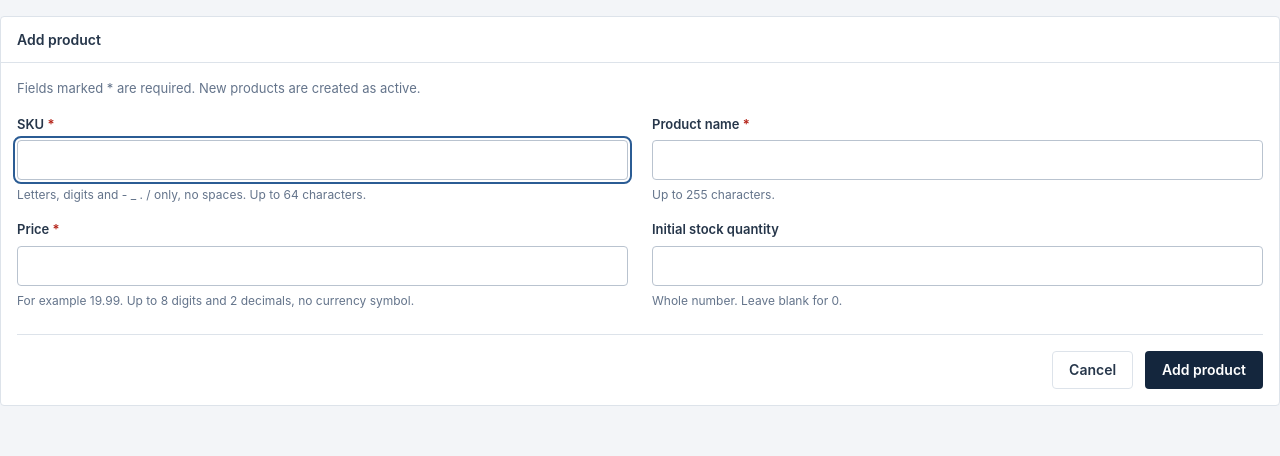
Test: validation before sending › sku with a space is caught without sending
Type "AB 12" into the field labelled "SKU *". click: (322, 160)
box: left=17, top=140, right=628, bottom=180
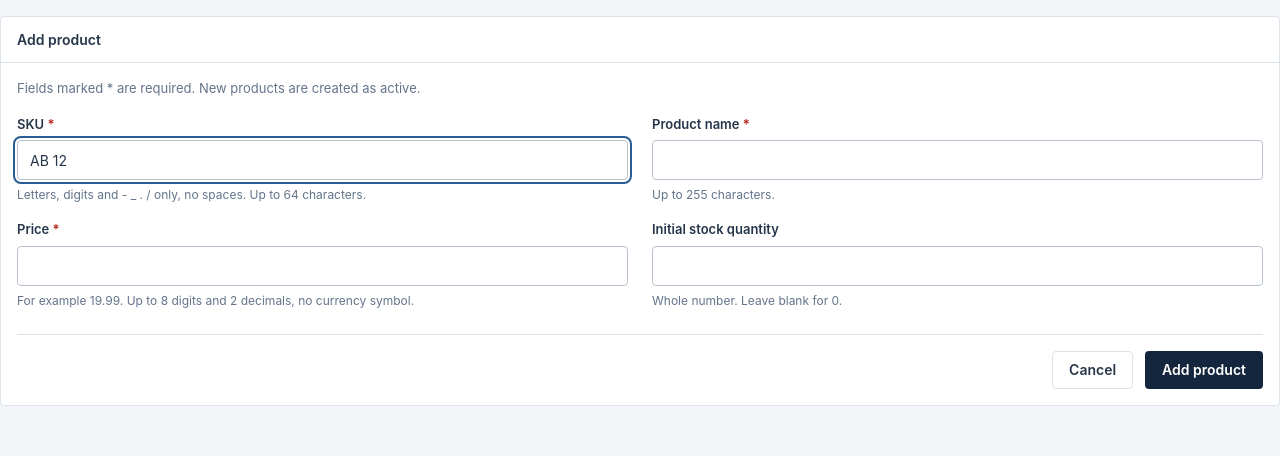
Type "USB Hub" into the field labelled "Product name *". click: (958, 160)
box: left=652, top=140, right=1263, bottom=180
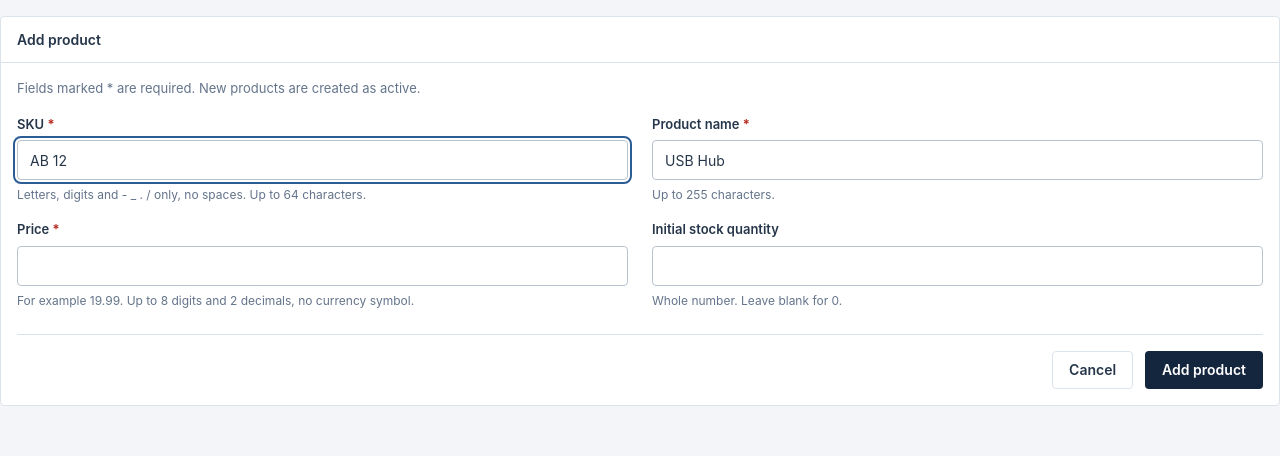
Type "24.50" into the field labelled "Price *". click: (322, 266)
box: left=17, top=246, right=628, bottom=286
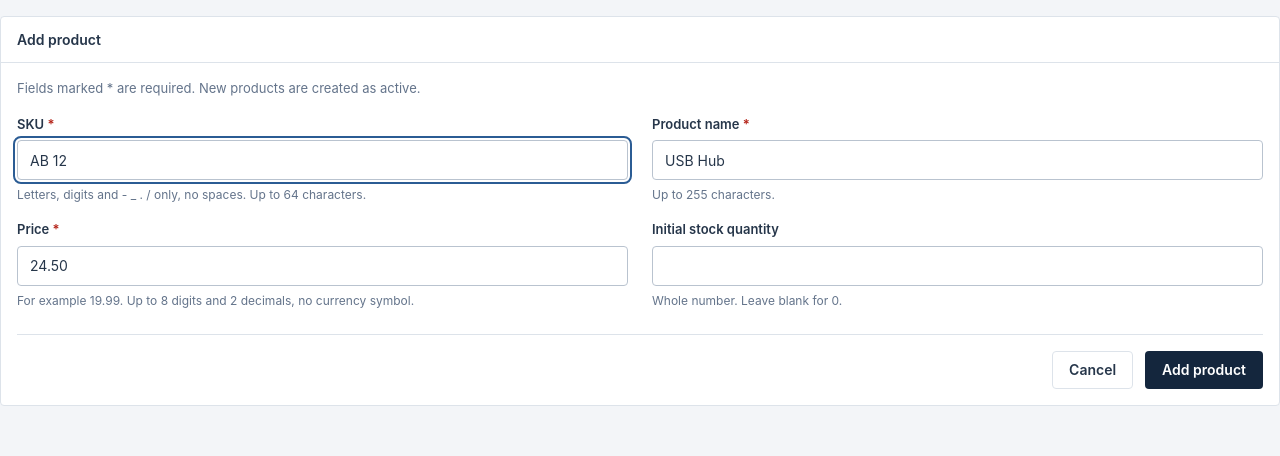
Type "15" into the field labelled "Initial stock quantity". click: (958, 266)
box: left=652, top=246, right=1263, bottom=286
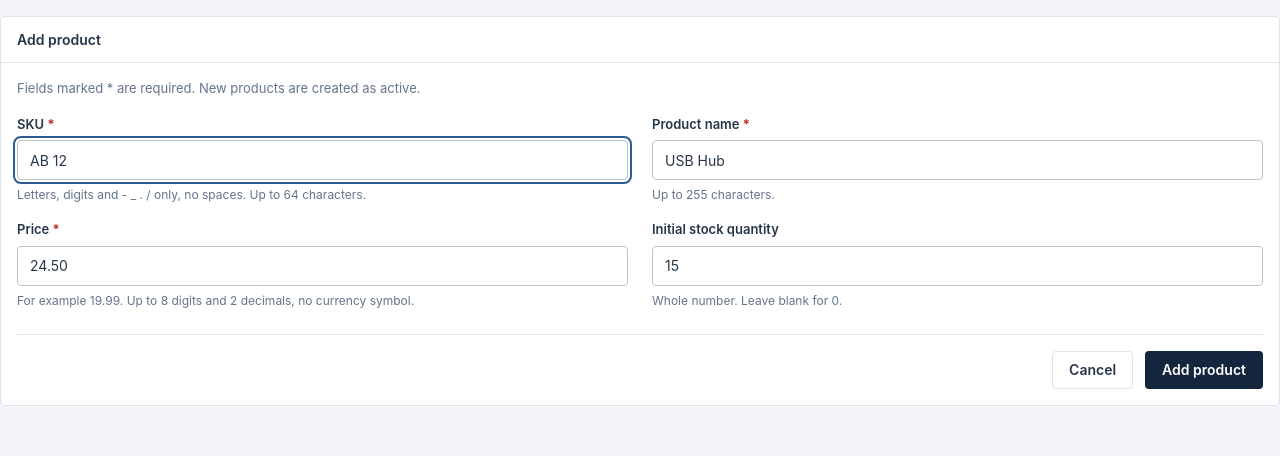
Click the button "Add product". click: (1204, 370)
box: left=1145, top=350, right=1263, bottom=388
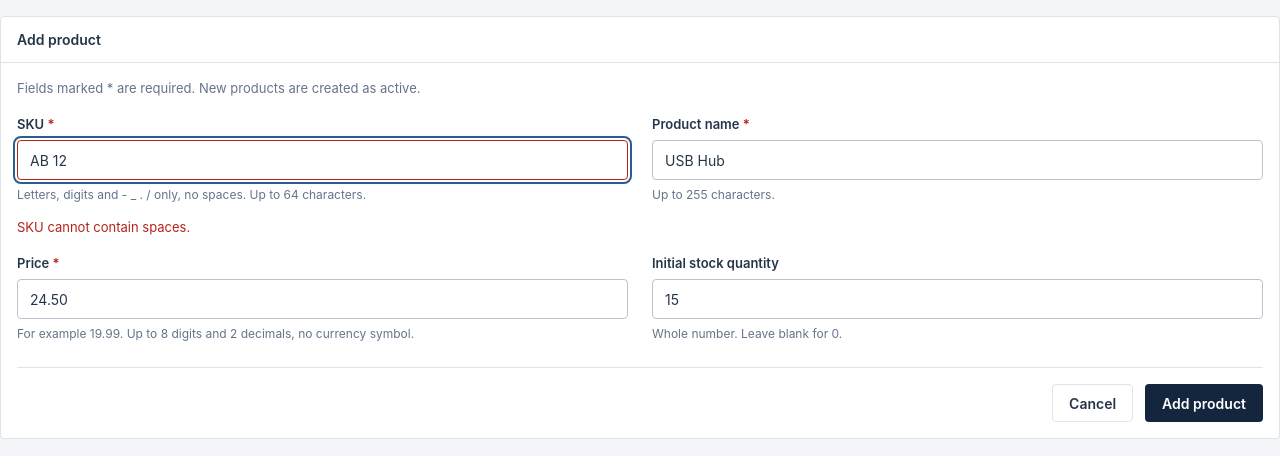
Expected: the text "SKU cannot contain spaces." is shown, left=17, top=219, right=190, bottom=235
